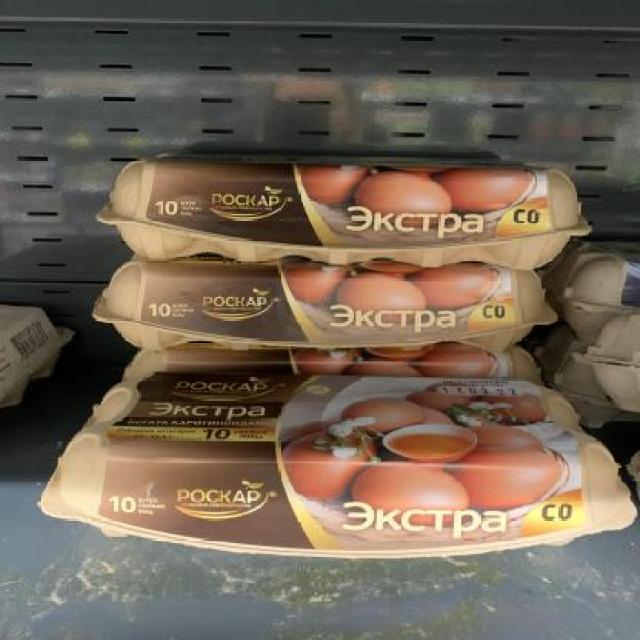Egg: (34, 371, 640, 564), (87, 152, 600, 268), (87, 263, 561, 352), (0, 304, 77, 411), (566, 226, 640, 337)
